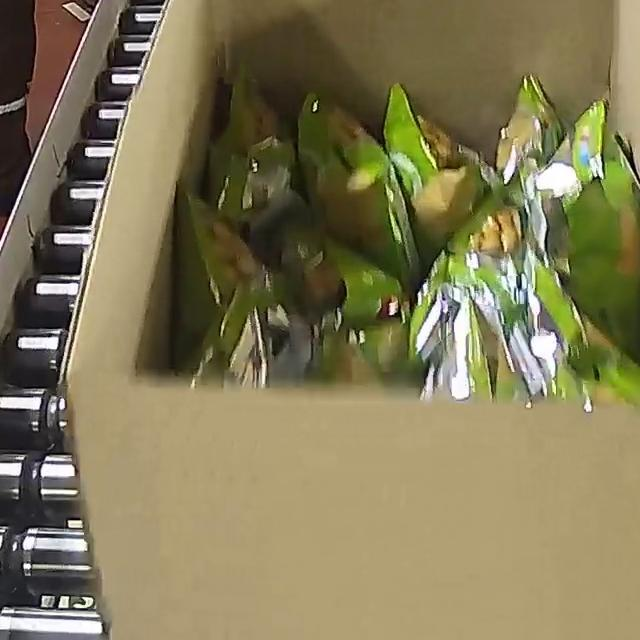yogurt: (182, 22, 640, 397)
